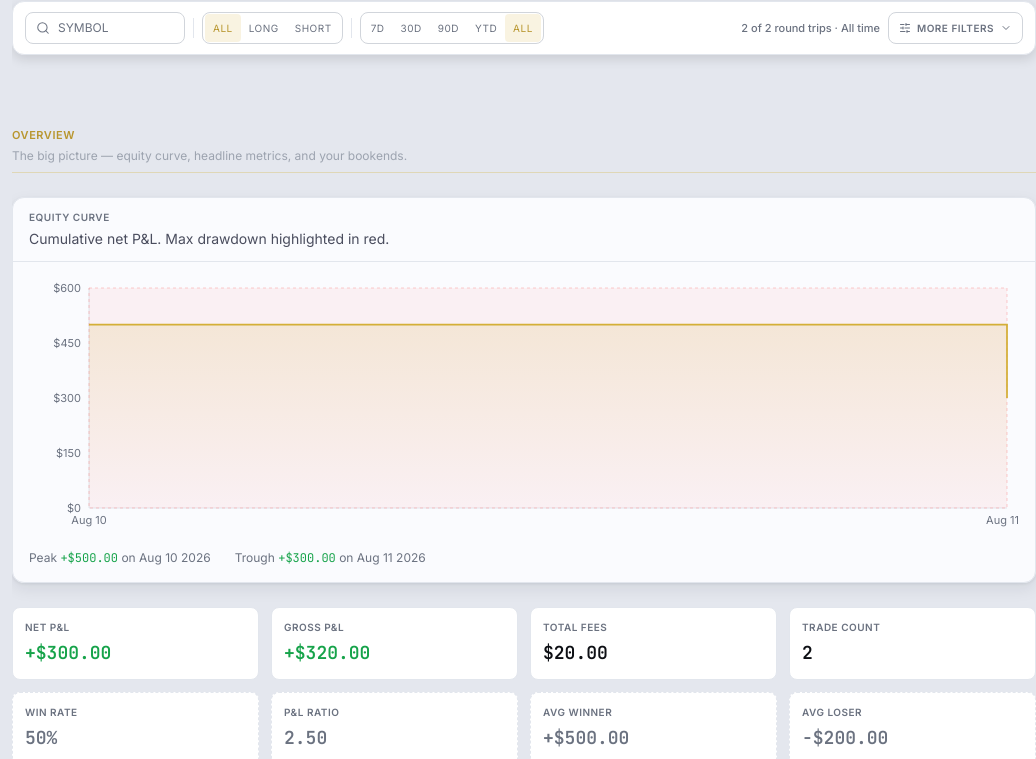
Test: T4 RESET renders only when there is something to reset › appears for a date range too — a window is a subset like any other
Click the button "7D" at x=378, y=28, box [363, 14, 392, 42]
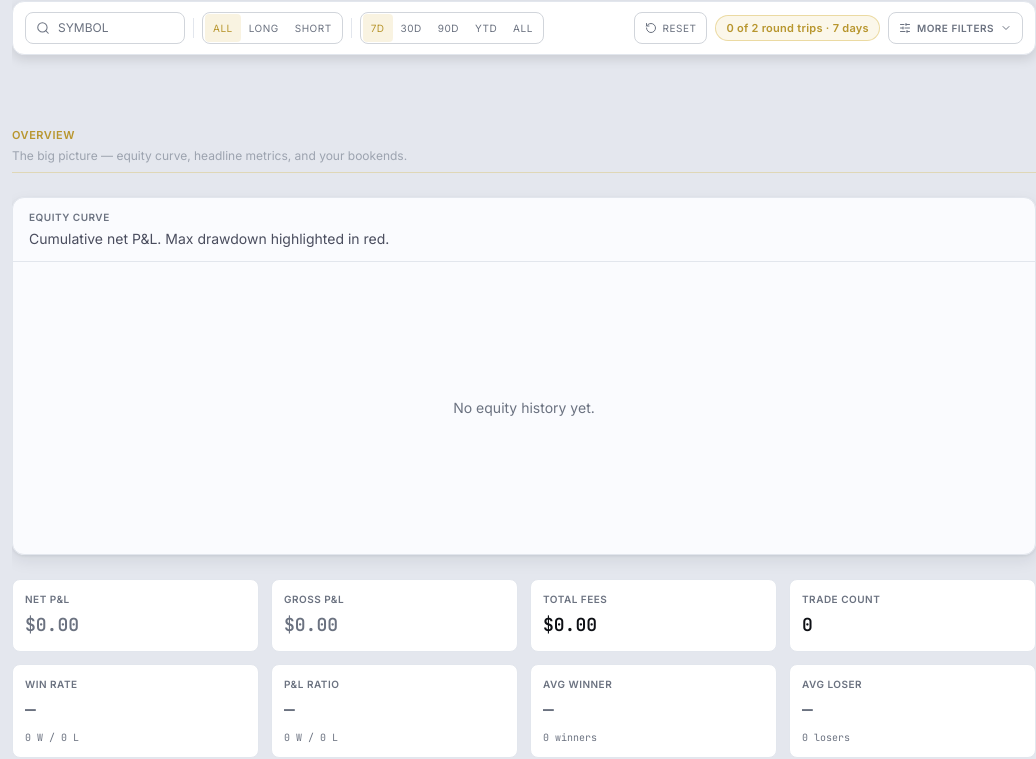
expect the button titled "Reset all filters" is shown: met, box [634, 12, 707, 44]
